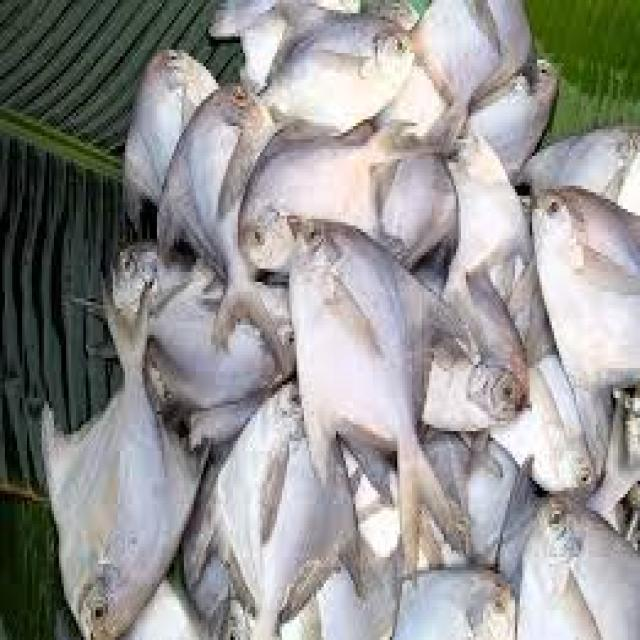pomfred: (290, 218, 464, 587), (44, 281, 209, 637)
